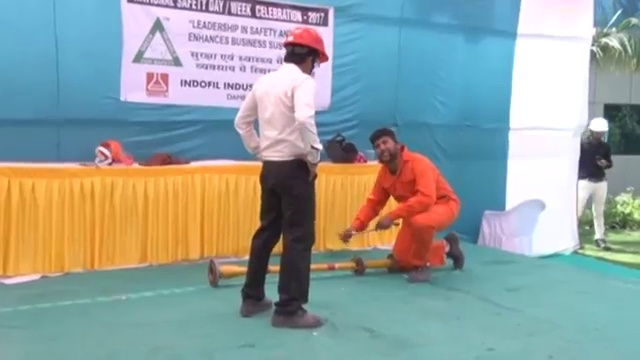helmet: (280, 27, 329, 61), (587, 115, 609, 134)
helmet_off: (369, 128, 397, 165)
helmet_on: (279, 27, 330, 80), (586, 113, 610, 144)
person: (233, 27, 331, 332), (340, 127, 467, 284), (576, 113, 614, 251)
